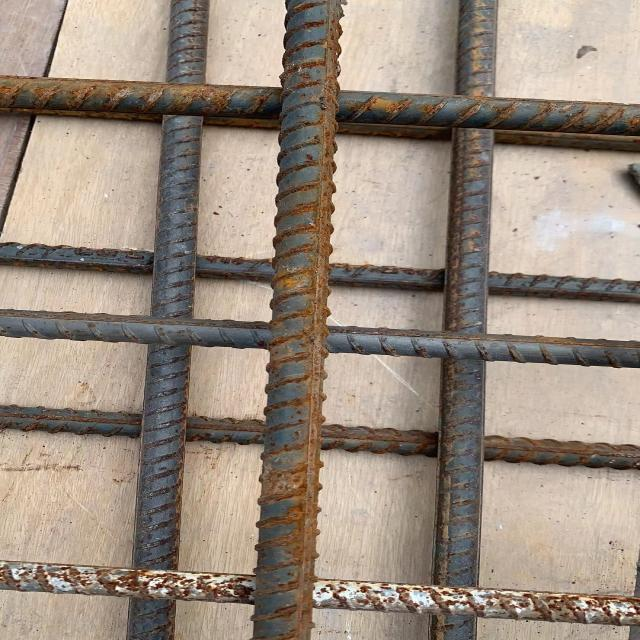ribbed bar: (248, 0, 344, 639), (122, 0, 214, 639), (0, 73, 639, 153), (425, 2, 503, 639), (0, 403, 639, 472), (0, 559, 639, 628), (0, 240, 639, 305), (0, 309, 639, 369)
